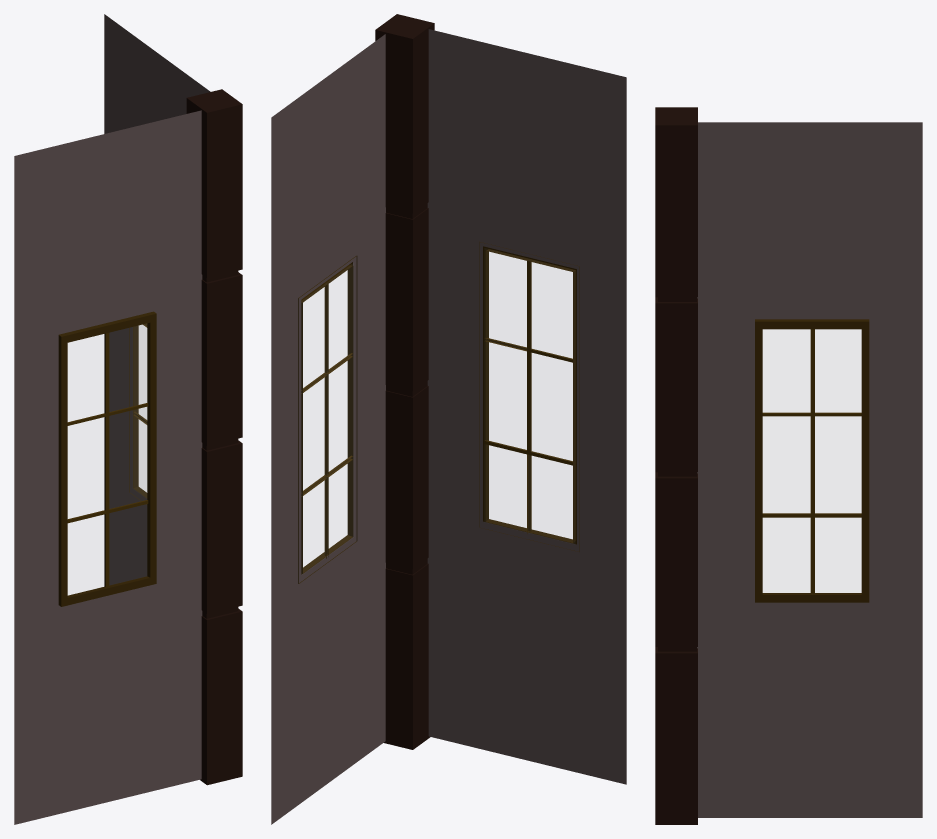
Rendered from Pared_Esquina_03.fbx.
The picture shows the model from 3 angles, left to right: view 1: azimuth 30°, elevation 25°; view 2: azimuth 150°, elevation 25°; view 3: azimuth 270°, elevation 25°; orthographic projection. The views are drawn at different scales.
Visible parts, largest first — view 1: polySurface36, Esquina_Pared_012, Marco_01_Edif_03, Barrote_Vent_01_Edif_03, Marco_01_Edif_04; view 2: polySurface36, Esquina_Pared_012, Marco_01_Edif_03, Marco_01_Edif_04, Barrote_Vent_01_Edif_03, Barrote_Vent_01_Edif_04; view 3: polySurface36, Esquina_Pared_012, Marco_01_Edif_04, Barrote_Vent_01_Edif_04.
Boxes of the visible parts, box(x1,y1,x2,y2) form: polySurface36: box(14, 14, 210, 824); Esquina_Pared_012: box(186, 89, 242, 785); Marco_01_Edif_03: box(58, 311, 156, 606); Barrote_Vent_01_Edif_03: box(67, 333, 148, 586); Marco_01_Edif_04: box(129, 325, 147, 505); polySurface36: box(271, 29, 626, 824); Esquina_Pared_012: box(375, 14, 434, 749); Marco_01_Edif_03: box(479, 241, 579, 551); Marco_01_Edif_04: box(298, 255, 357, 583); Barrote_Vent_01_Edif_03: box(484, 260, 572, 533); Barrote_Vent_01_Edif_04: box(301, 283, 352, 558); polySurface36: box(697, 122, 922, 817); Esquina_Pared_012: box(655, 107, 697, 824); Marco_01_Edif_04: box(755, 319, 869, 602); Barrote_Vent_01_Edif_04: box(762, 329, 861, 593).
Size of the model in its own units: 6.27 by 18.09 by 6.27.
